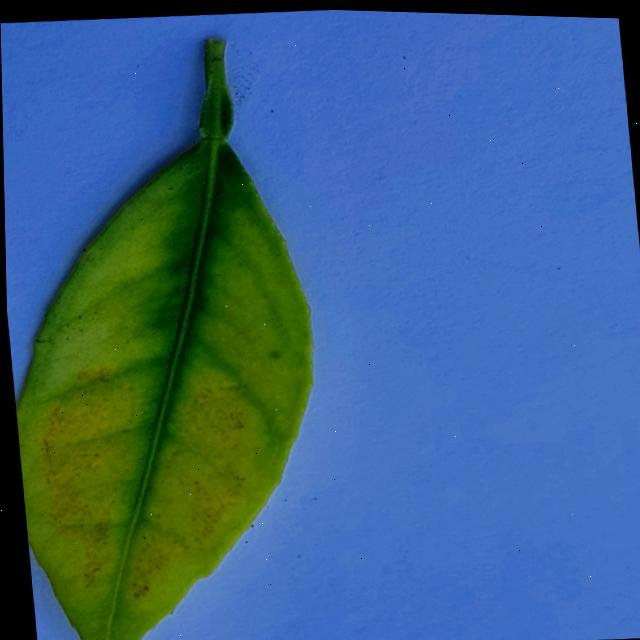greening: (15, 38, 311, 640)
